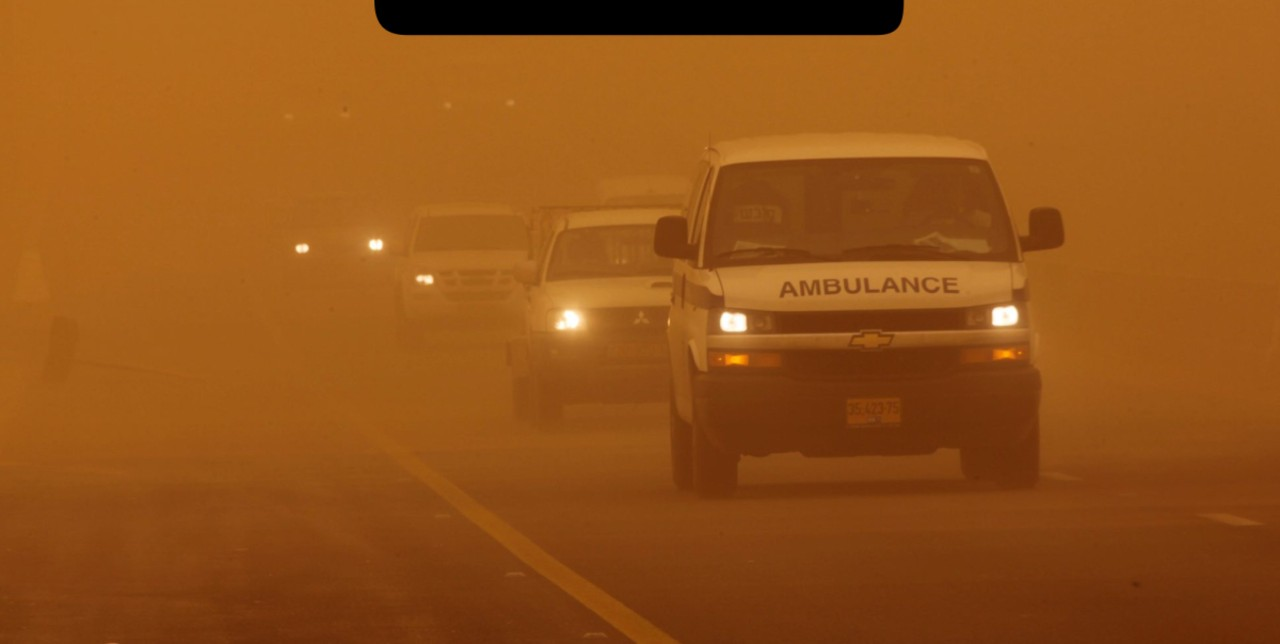car: (656, 131, 1064, 492), (501, 202, 684, 434), (388, 201, 542, 337), (273, 185, 391, 297)
